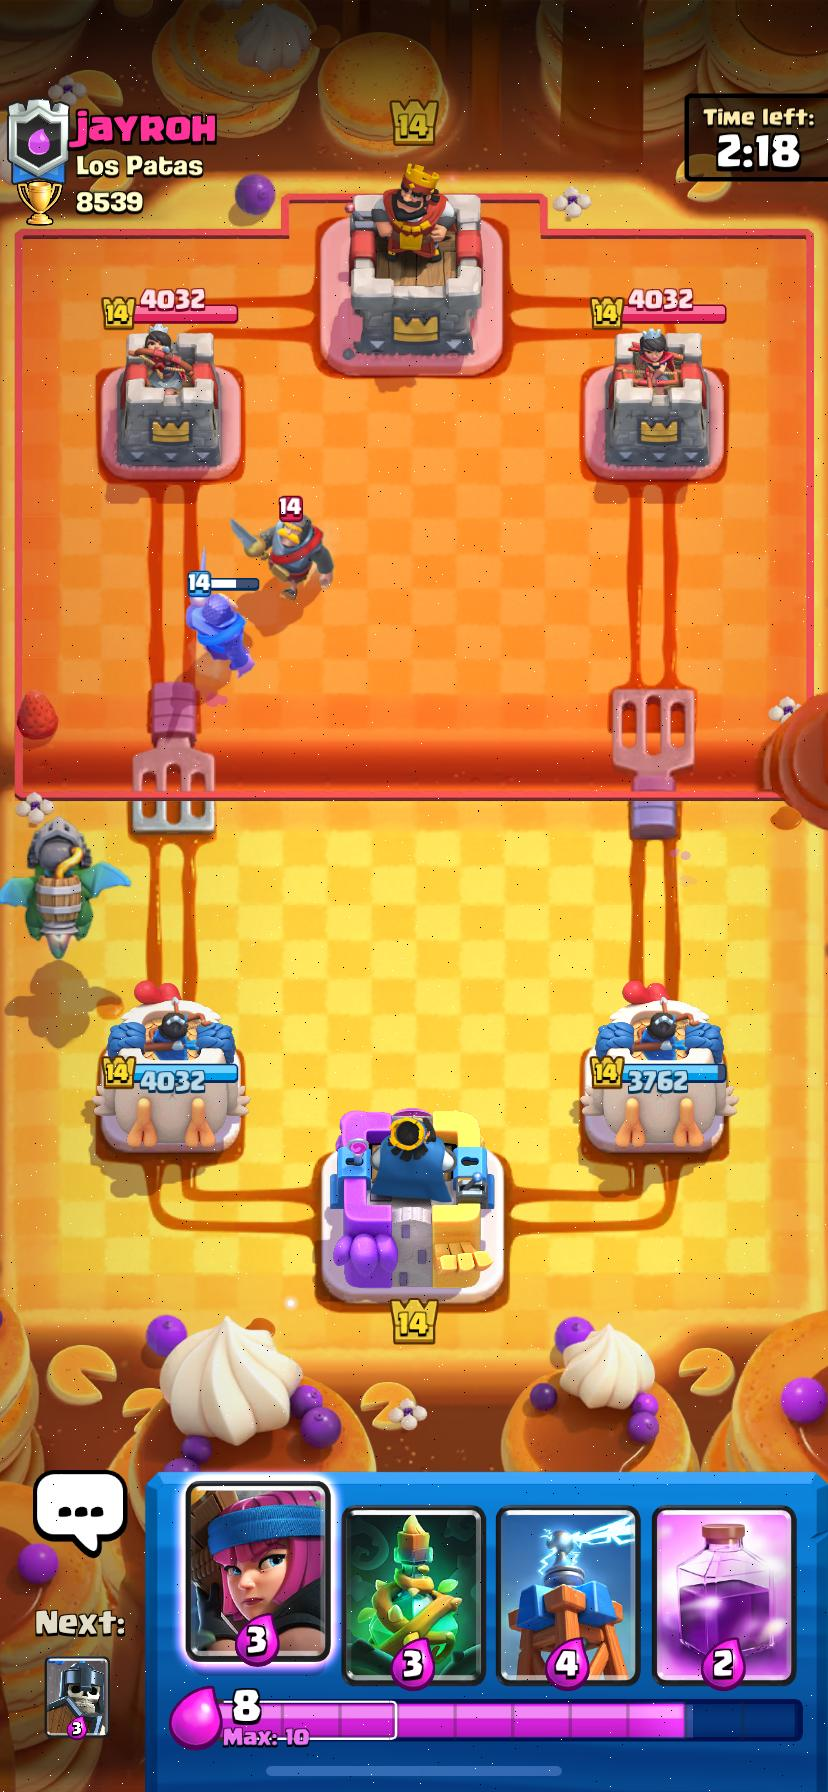EKingTower: (350, 165, 481, 357)
EKnight: (231, 497, 333, 599)
EnemyPrincessTower: (604, 329, 722, 478), (116, 325, 222, 477)
OInfernoDrag: (0, 817, 129, 958)
OKnight: (186, 591, 253, 677)
OwnKingTower: (321, 1109, 503, 1303)
OwnPrincessTower: (580, 982, 737, 1154), (93, 983, 248, 1152)
